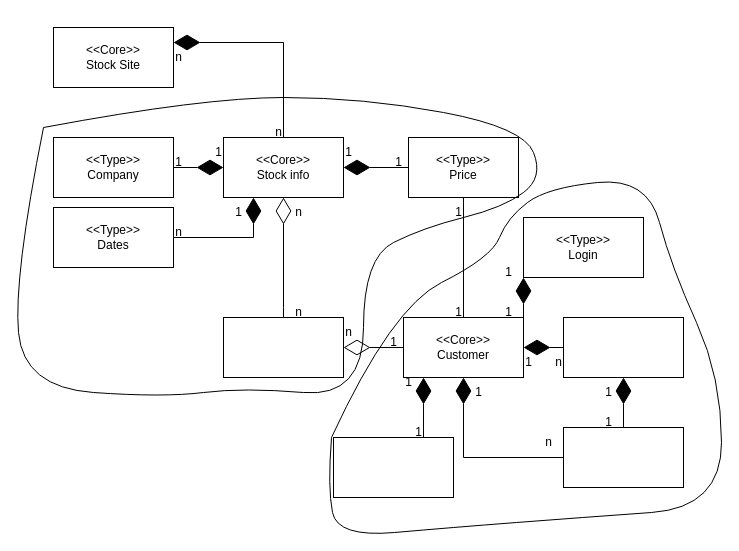
This 739x551 diagram has some shape labels left out. The shapes that lost their labels are listed below. From the top down, each one's centre as x and y in pixels, then its label:
At (x=283, y=347): "<<Type>> Graph".
At (x=623, y=347): "<<Type>> Notifications".
At (x=393, y=467): "<<Type>> Portfolio".
At (x=623, y=457): "<<Type>> Watchlist".
